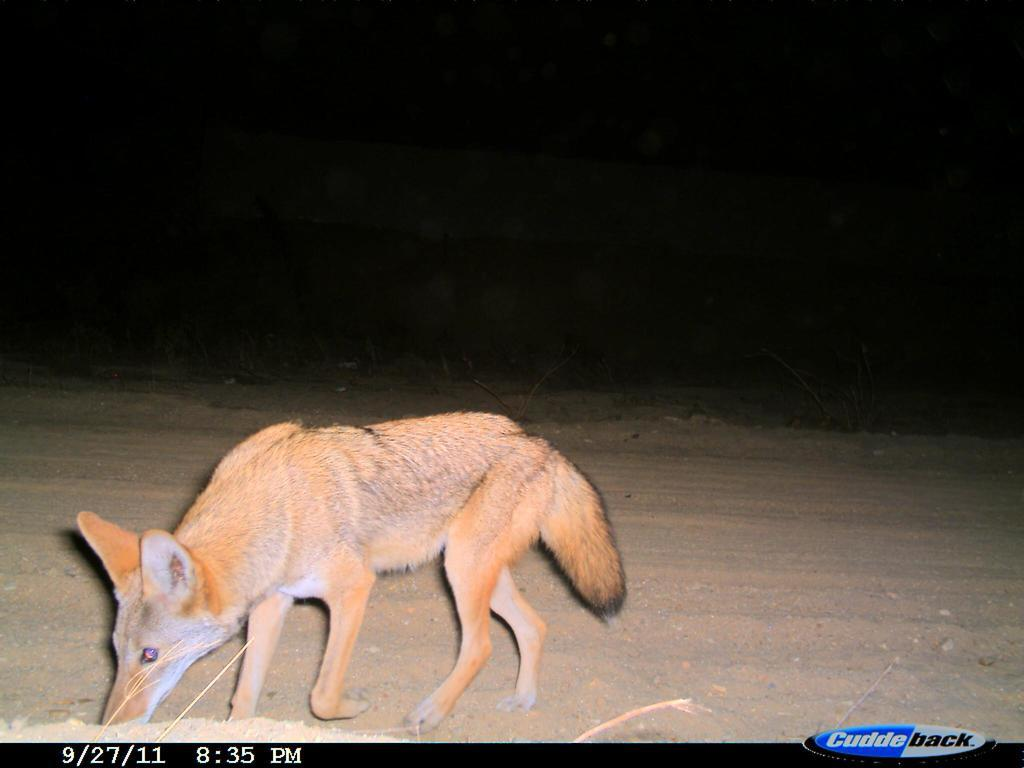coyote: (56, 401, 646, 743)
